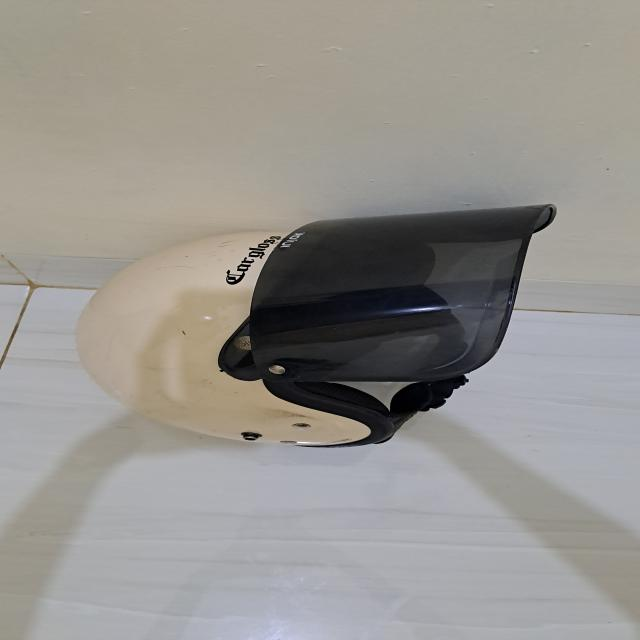Helm: (67, 192, 559, 456)
